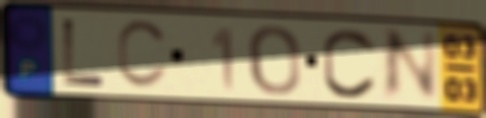1: (210, 25, 236, 92)
C: (320, 25, 380, 102), (114, 18, 172, 92)
L: (60, 16, 109, 89)
N: (379, 27, 441, 104)
O: (245, 23, 303, 98)
